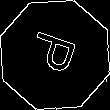P_E: (25, 29, 85, 81)
